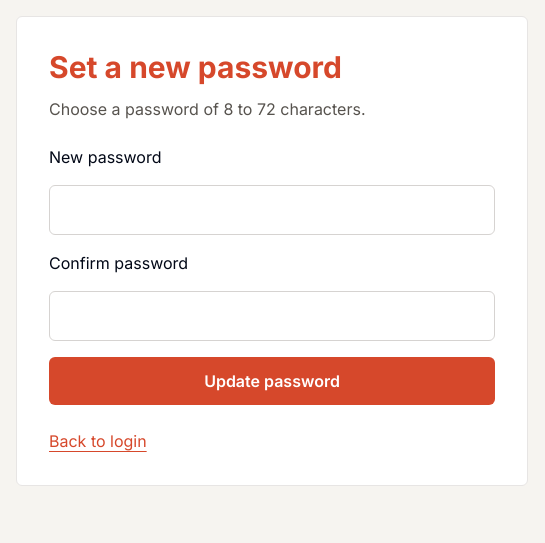
Test: rejects mismatched passwords before making a request
The image size is (545, 543).
Type "Password123!" into the password field labelled "New password" at (272, 210), box x1=49 y1=185 x2=495 y2=235
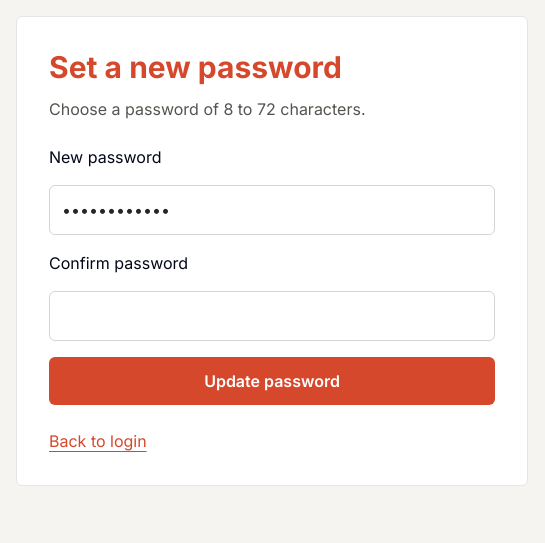
Type "Different123!" into the password field labelled "Confirm password" at (272, 316), box x1=49 y1=291 x2=495 y2=341
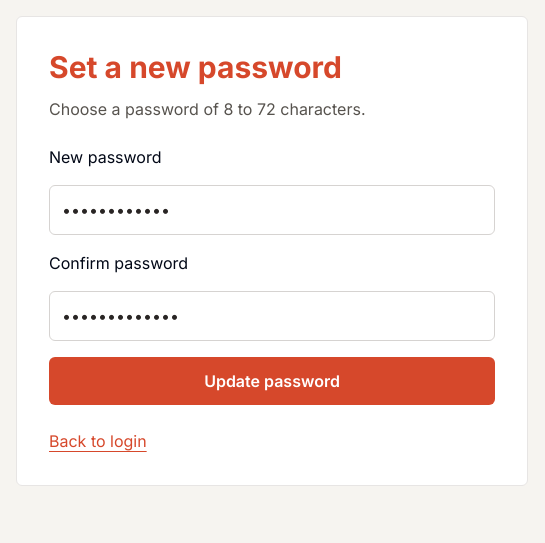
Click the button "Update password" at (272, 381), box x1=49 y1=357 x2=495 y2=405
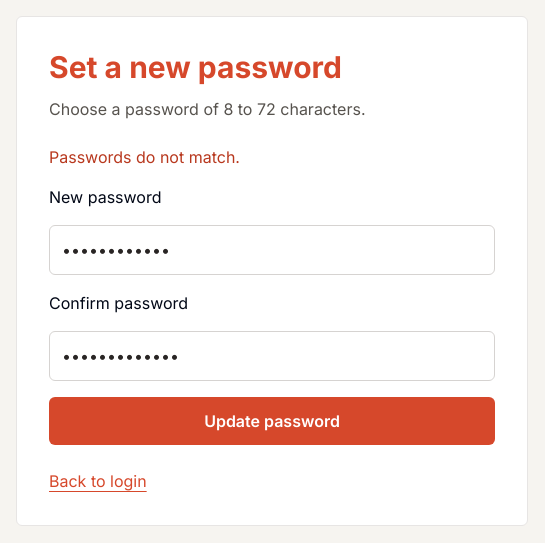
Now the message shows "do not match", box x1=49 y1=147 x2=240 y2=167
